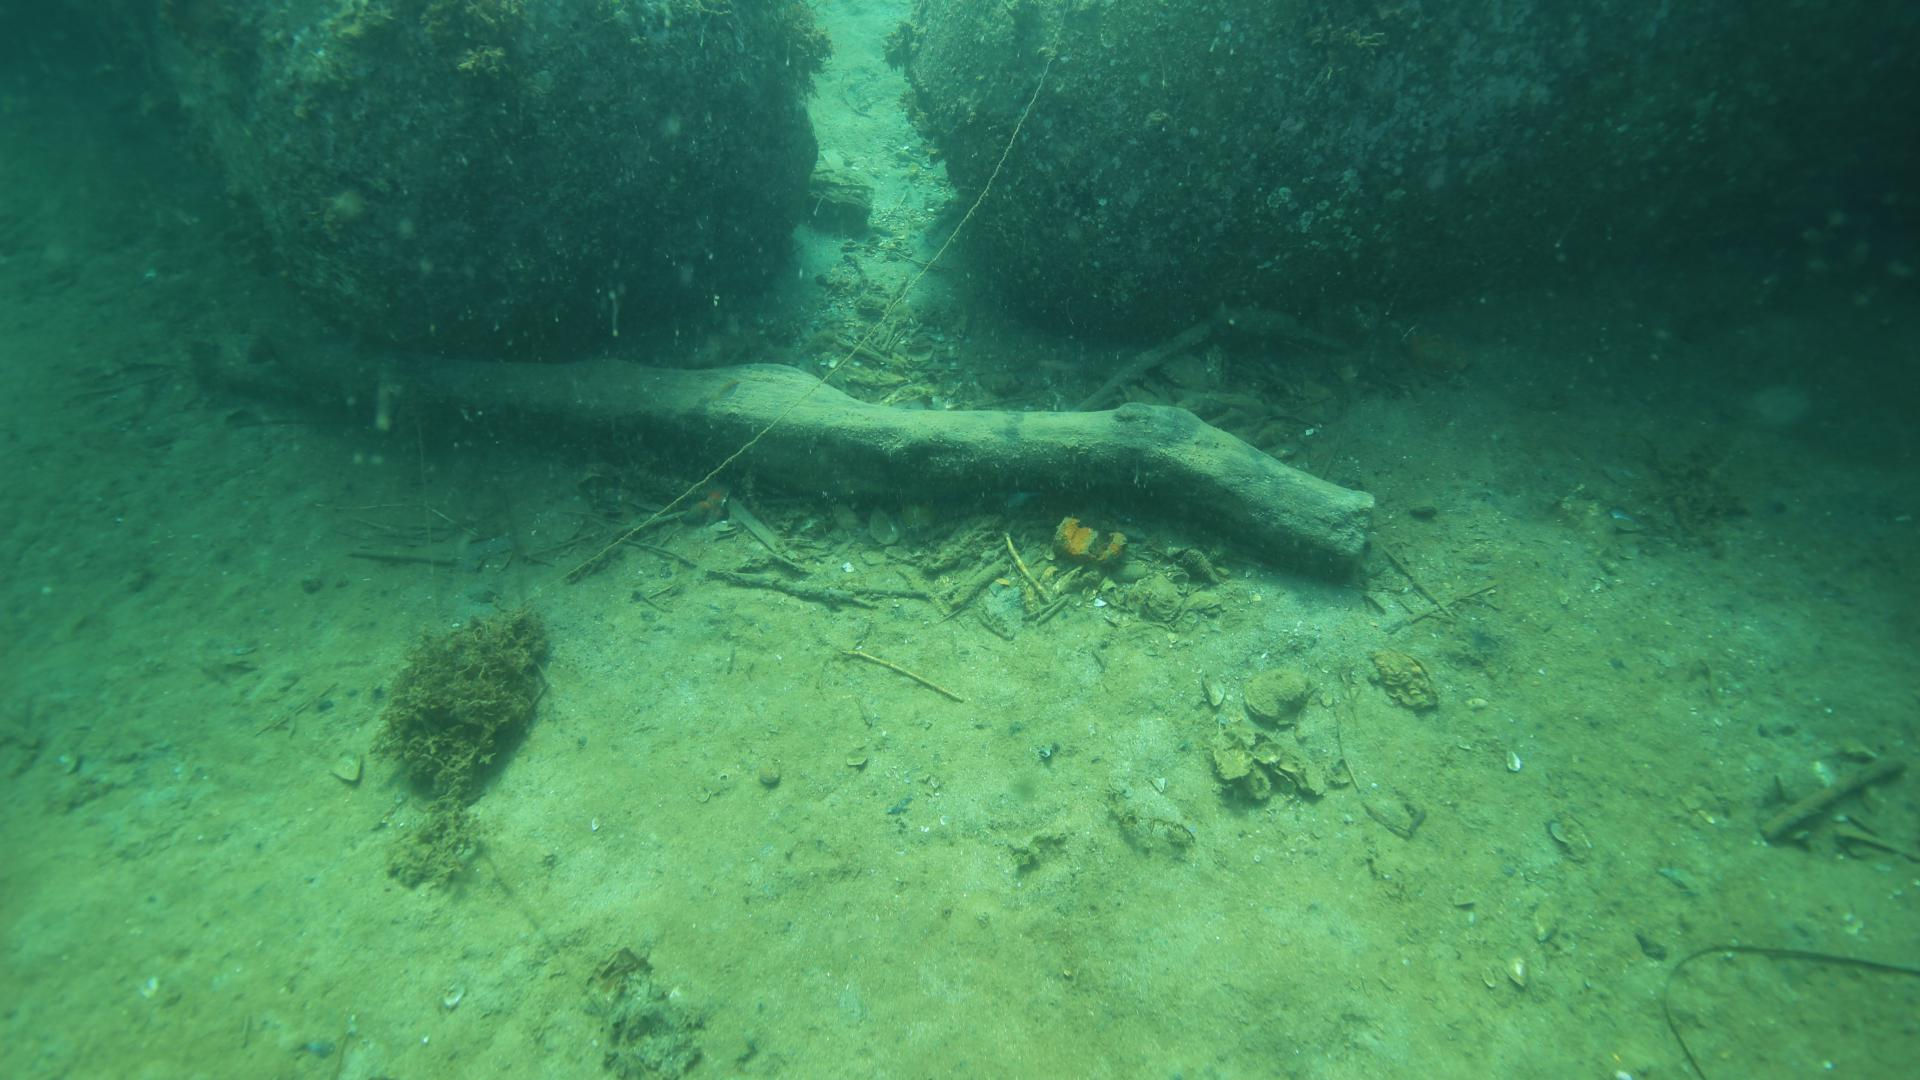wood: (189, 334, 1375, 582)
